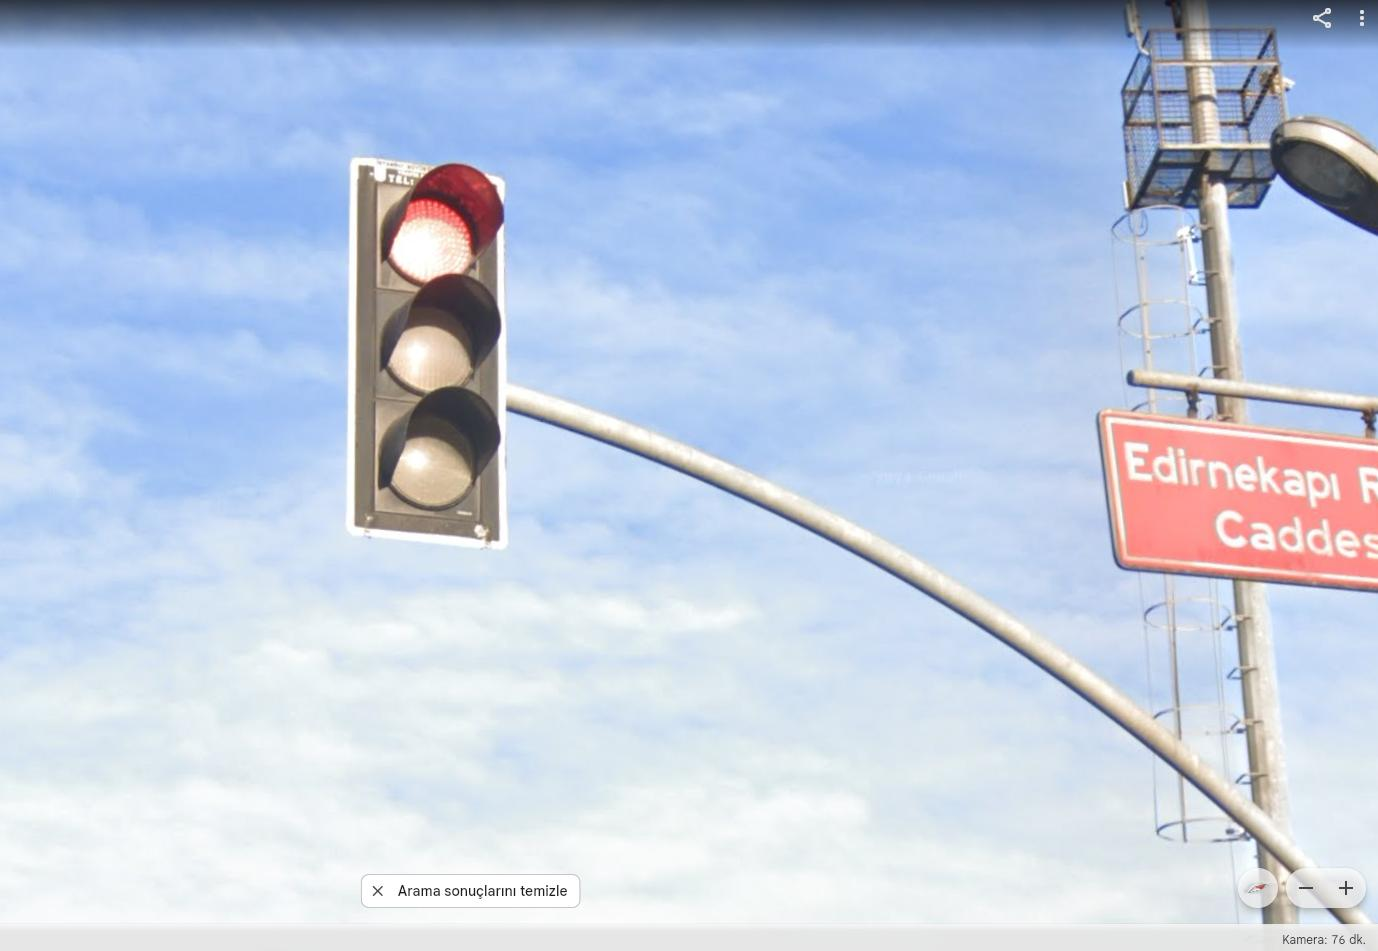redlight: (374, 163, 505, 521)
